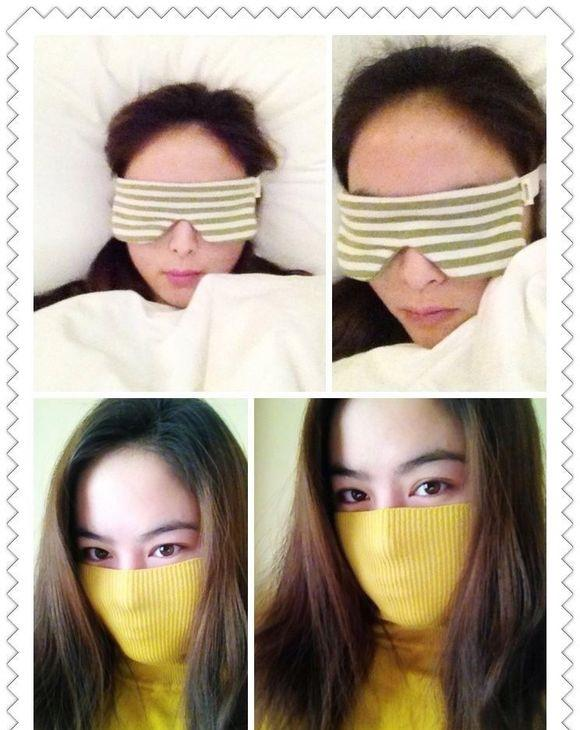NONE: (371, 199, 513, 341), (131, 194, 248, 311)
OK: (327, 449, 490, 618), (75, 515, 208, 648)
